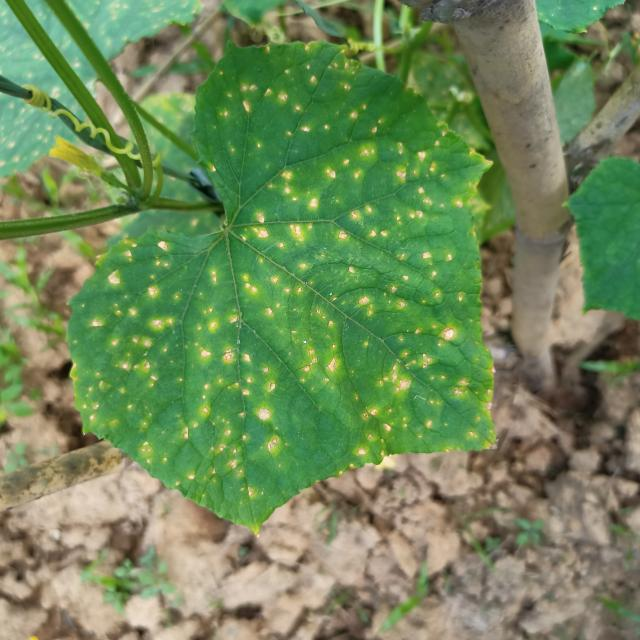disease_cucumber: (78, 60, 472, 508)
